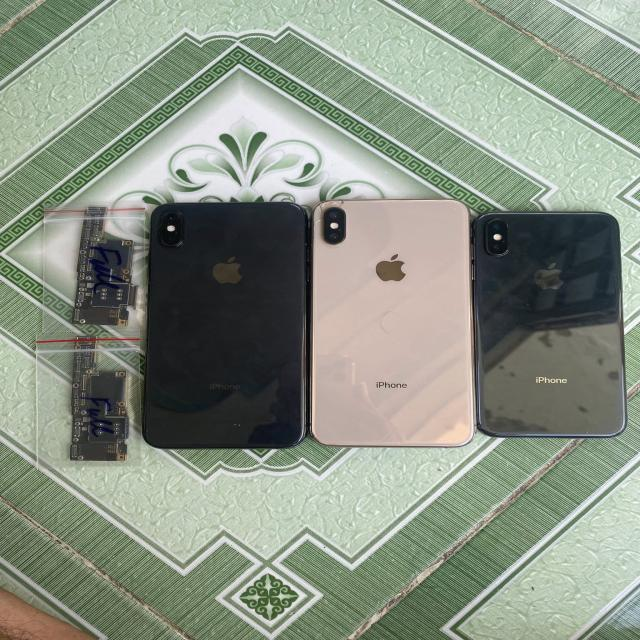physical_damage: (305, 197, 351, 247), (380, 307, 402, 336)
scratch: (380, 420, 400, 448), (408, 412, 442, 424), (417, 369, 431, 389), (410, 350, 436, 360), (449, 204, 461, 212)
